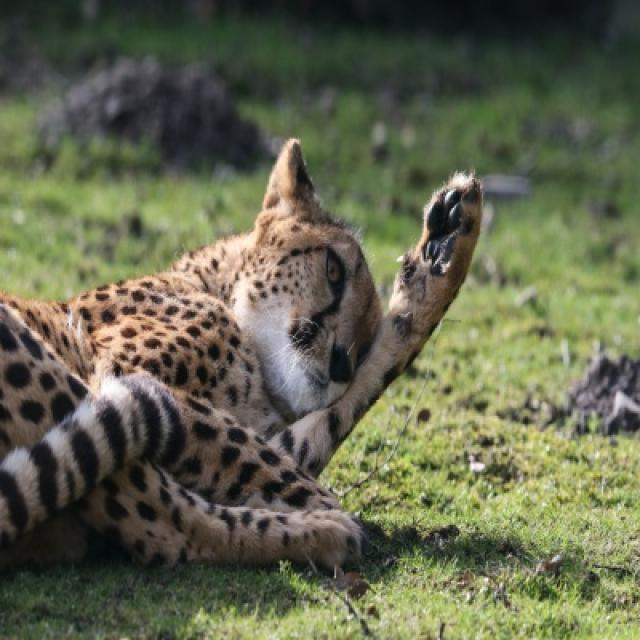Cheetah: (0, 130, 482, 564)
